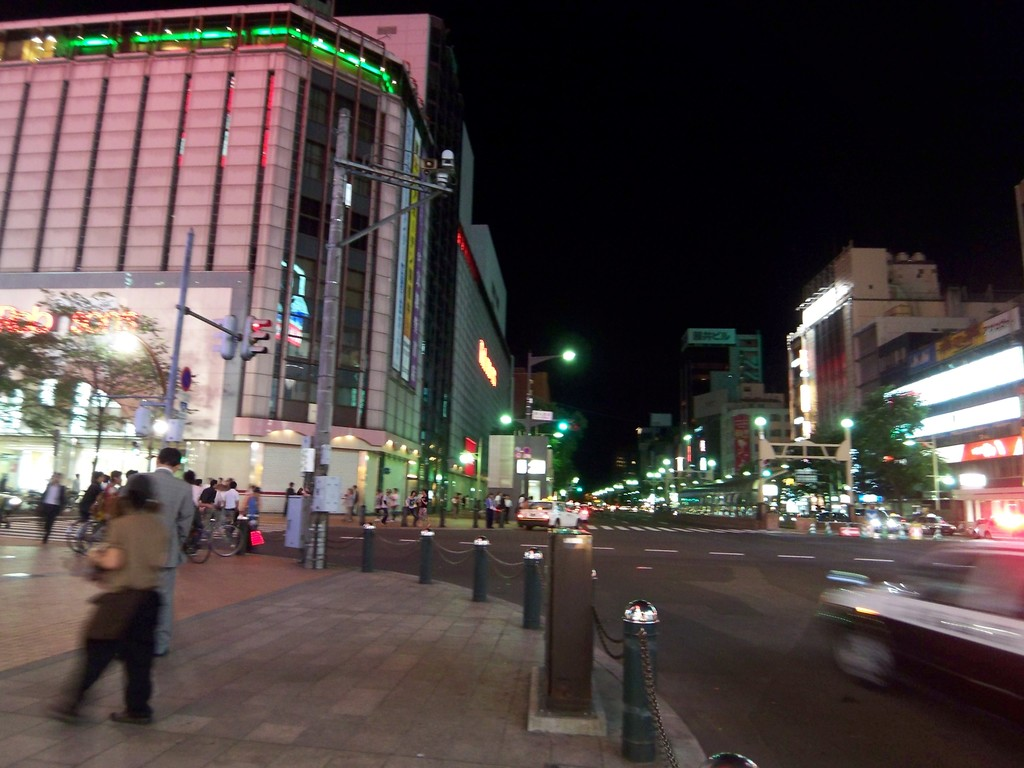green_light: (558, 344, 579, 365), (751, 414, 768, 429), (553, 418, 570, 432), (498, 411, 512, 425), (840, 417, 854, 427)
